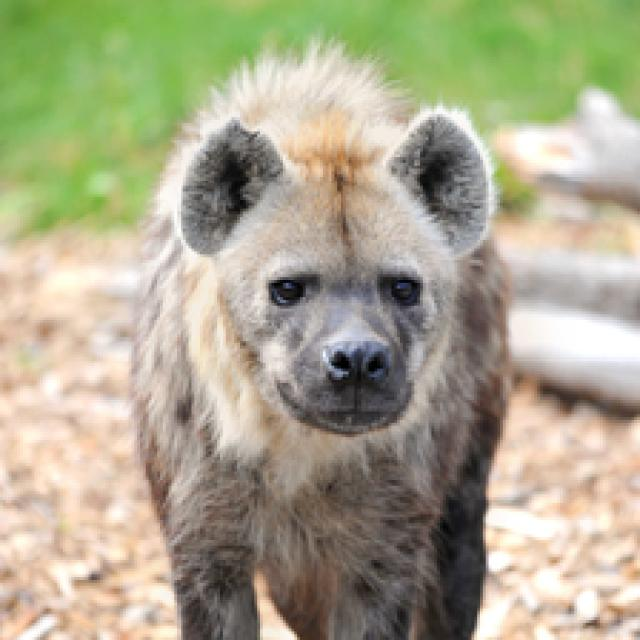hyena: (115, 27, 542, 640)
